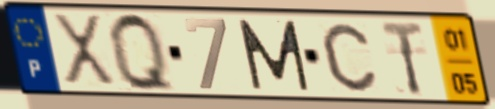7: (182, 16, 230, 91)
C: (319, 20, 380, 94)
M: (235, 17, 314, 93)
Q: (105, 9, 180, 96)
T: (378, 19, 426, 98)
X: (49, 11, 120, 90)
